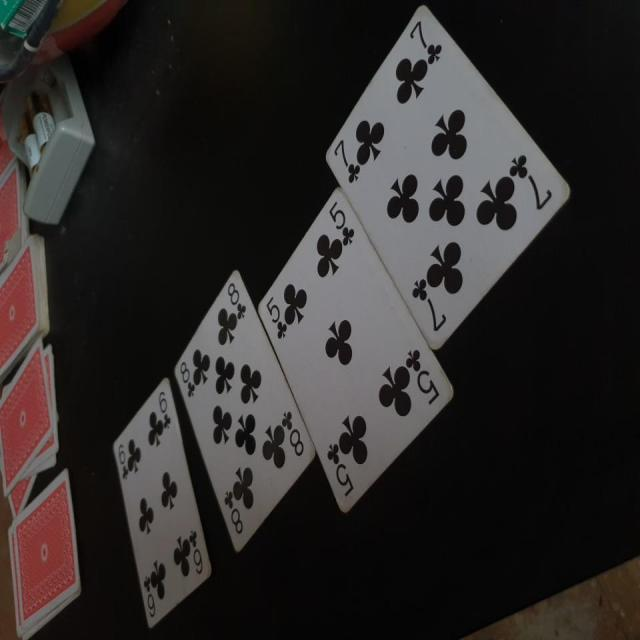5 of clubs: (257, 188, 456, 516)
6 of clubs: (112, 376, 214, 628)
7 of clubs: (326, 3, 572, 353)
8 of clubs: (174, 265, 314, 555)
